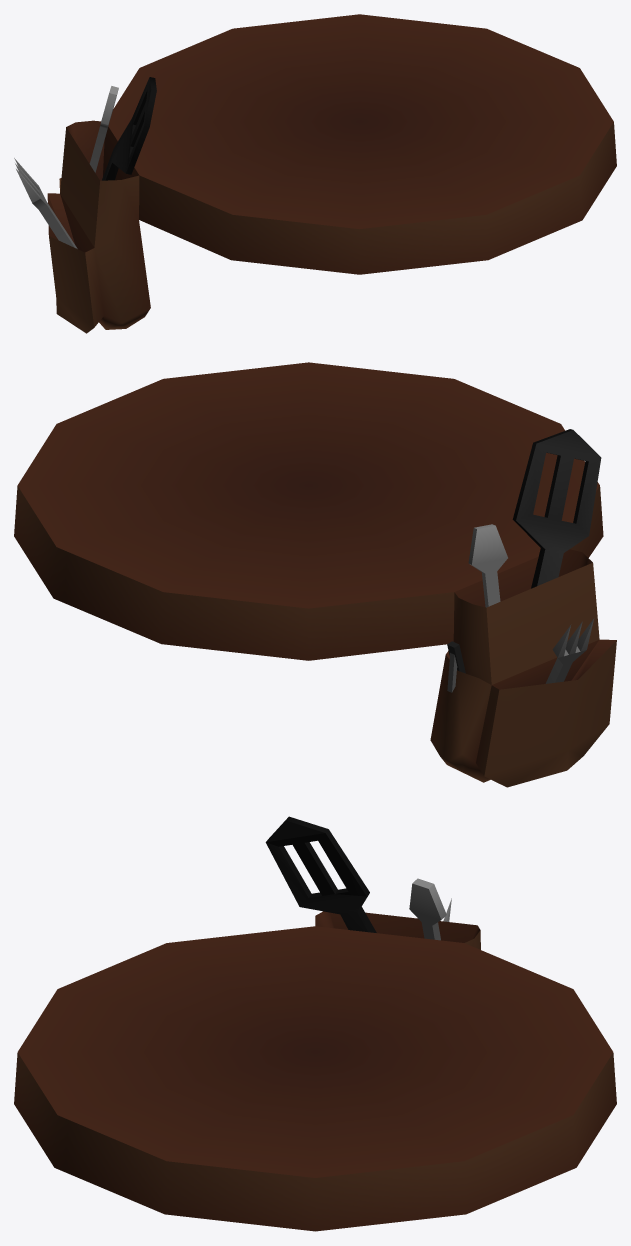
The model's file is hat_toolbelt.glb.
The picture shows the model from 3 angles, top to bottom: view 1: azimuth 30°, elevation 25°; view 2: azimuth 150°, elevation 25°; view 3: azimuth 270°, elevation 25°; orthographic projection. The views are drawn at different scales.
Parts seen in each view (by area): view 1: hat_toolbelt; view 2: hat_toolbelt; view 3: hat_toolbelt.
Boxes of the visible parts, bbox=[...] form: hat_toolbelt: bbox=[14, 14, 616, 333]; hat_toolbelt: bbox=[14, 362, 616, 787]; hat_toolbelt: bbox=[14, 816, 616, 1231].
Size of the model in its own units: 0.6154 by 0.2889 by 0.5277.
